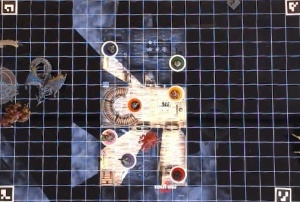blue: (101, 40, 118, 56)
green: (168, 53, 186, 71)
orange: (126, 97, 144, 113)
pink: (100, 127, 118, 146)
red: (170, 164, 187, 183)
violet: (120, 152, 138, 167)
yellow: (165, 83, 185, 100)
